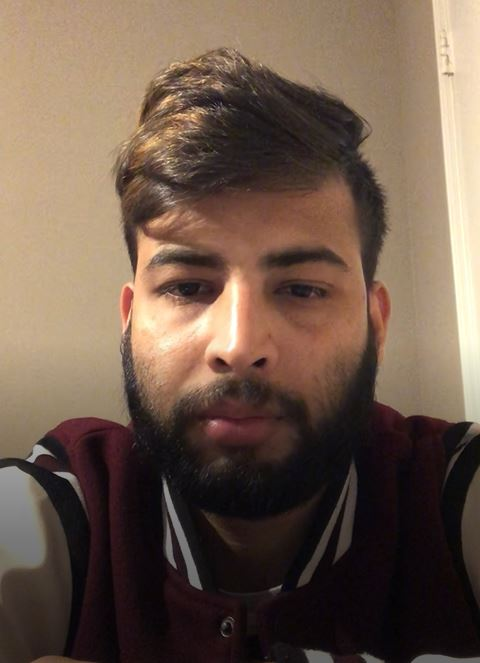Not Sleeping: (144, 259, 346, 321)
